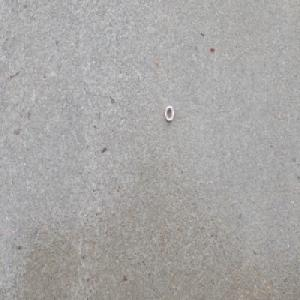Nut: (163, 106, 173, 123)
